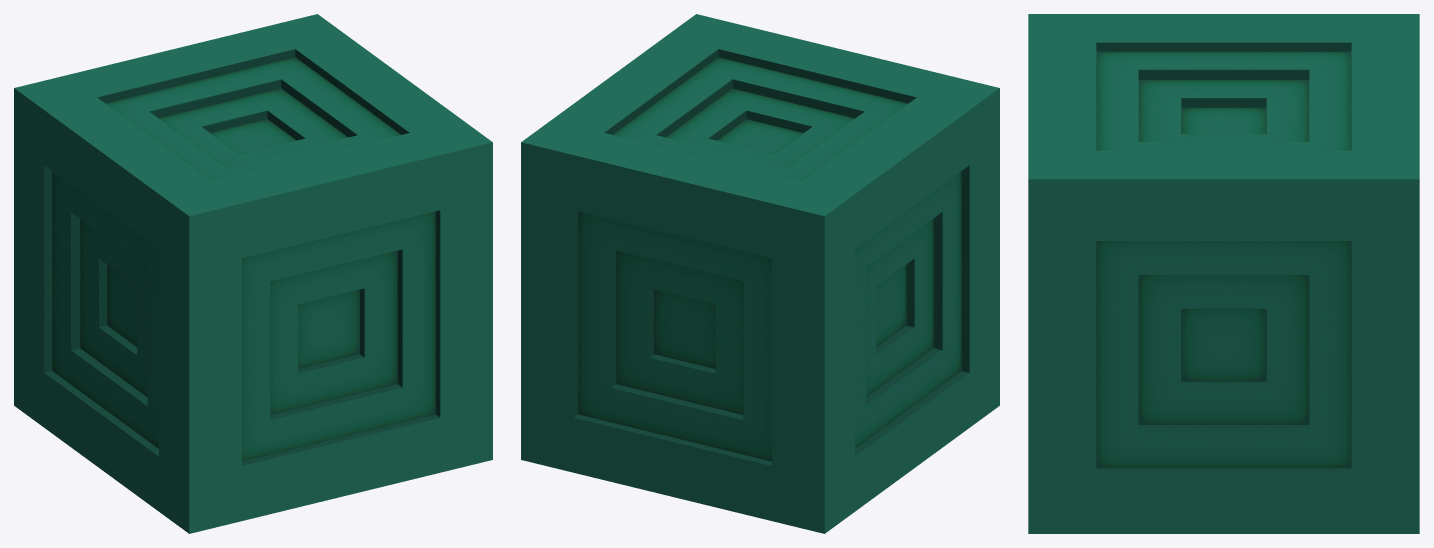
3 renders of one model, left to right at view 1: azimuth 30°, elevation 25°; view 2: azimuth 150°, elevation 25°; view 3: azimuth 270°, elevation 25°, orthographic. The views are drawn at different scales.
Parts seen in each view (by area): view 1: cube02_geo; view 2: cube02_geo; view 3: cube02_geo.
Part boxes in pixels (x1,y1,x2,y2): cube02_geo: (14, 14, 492, 533); cube02_geo: (521, 14, 999, 533); cube02_geo: (1028, 14, 1419, 533).
Bounding box in the file's own units: 100 × 100 × 100.
1 material, 1 textured.
